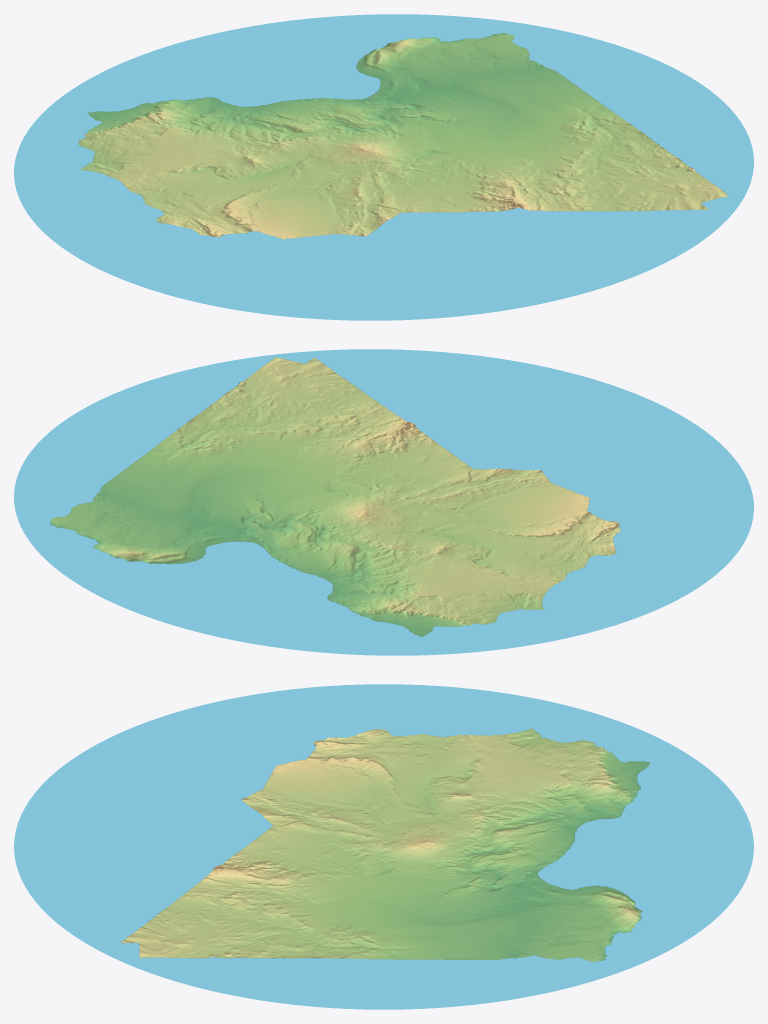
File: LBY-terrain.glb
The picture shows the model from 3 angles, top to bottom: view 1: azimuth 30°, elevation 25°; view 2: azimuth 150°, elevation 25°; view 3: azimuth 270°, elevation 25°; orthographic projection. The views are drawn at different scales.
Parts seen in each view (by area): view 1: Relevo com hidrografia; view 2: Relevo com hidrografia; view 3: Relevo com hidrografia.
Part boxes in pixels (left/top/right/bottom): Relevo com hidrografia: left=14, top=14, right=753, bottom=320; Relevo com hidrografia: left=14, top=349, right=753, bottom=655; Relevo com hidrografia: left=14, top=684, right=753, bottom=1009.
Bounding box in the file's own units: 2.24 × 0.0241 × 2.16.
2 materials, 1 textured.
